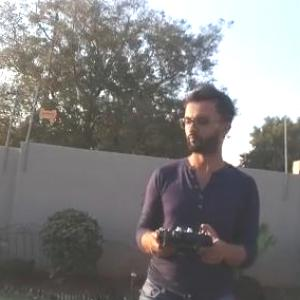follow: (122, 84, 256, 299)
